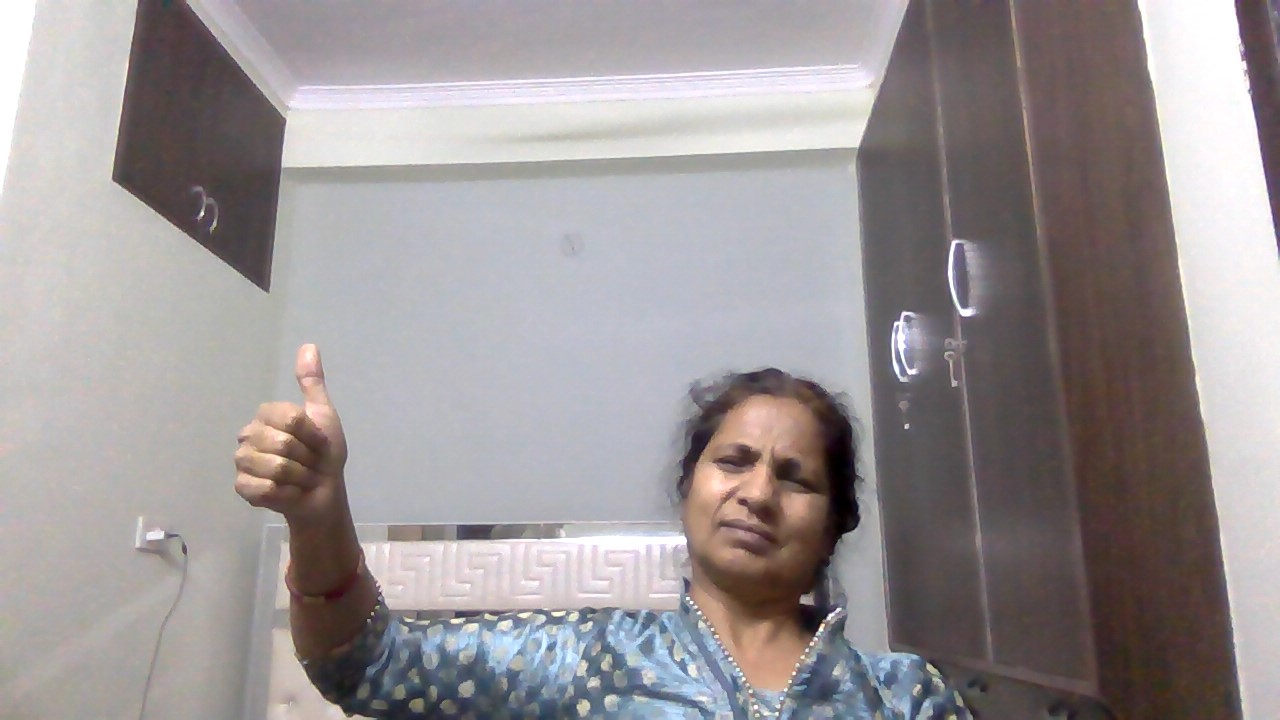Save: (226, 333, 362, 550)
